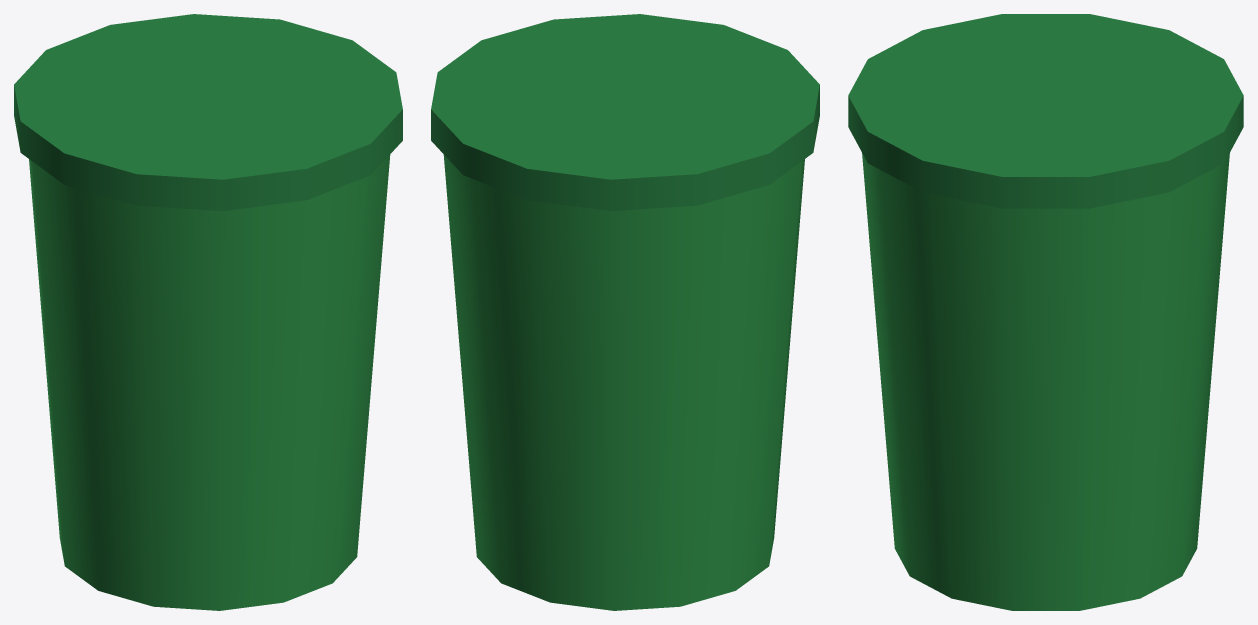
Rendered from bin.glb.
3 renders of one model, left to right at view 1: azimuth 30°, elevation 25°; view 2: azimuth 150°, elevation 25°; view 3: azimuth 270°, elevation 25°, orthographic.
Visible parts, largest first — view 1: bin; view 2: bin; view 3: bin.
Part boxes in pixels (x1,y1,x2,y2): bin: [14, 14, 402, 610]; bin: [431, 14, 819, 610]; bin: [848, 14, 1243, 610].
Bounding box in the file's own units: 0.3315 × 0.43 × 0.34.
